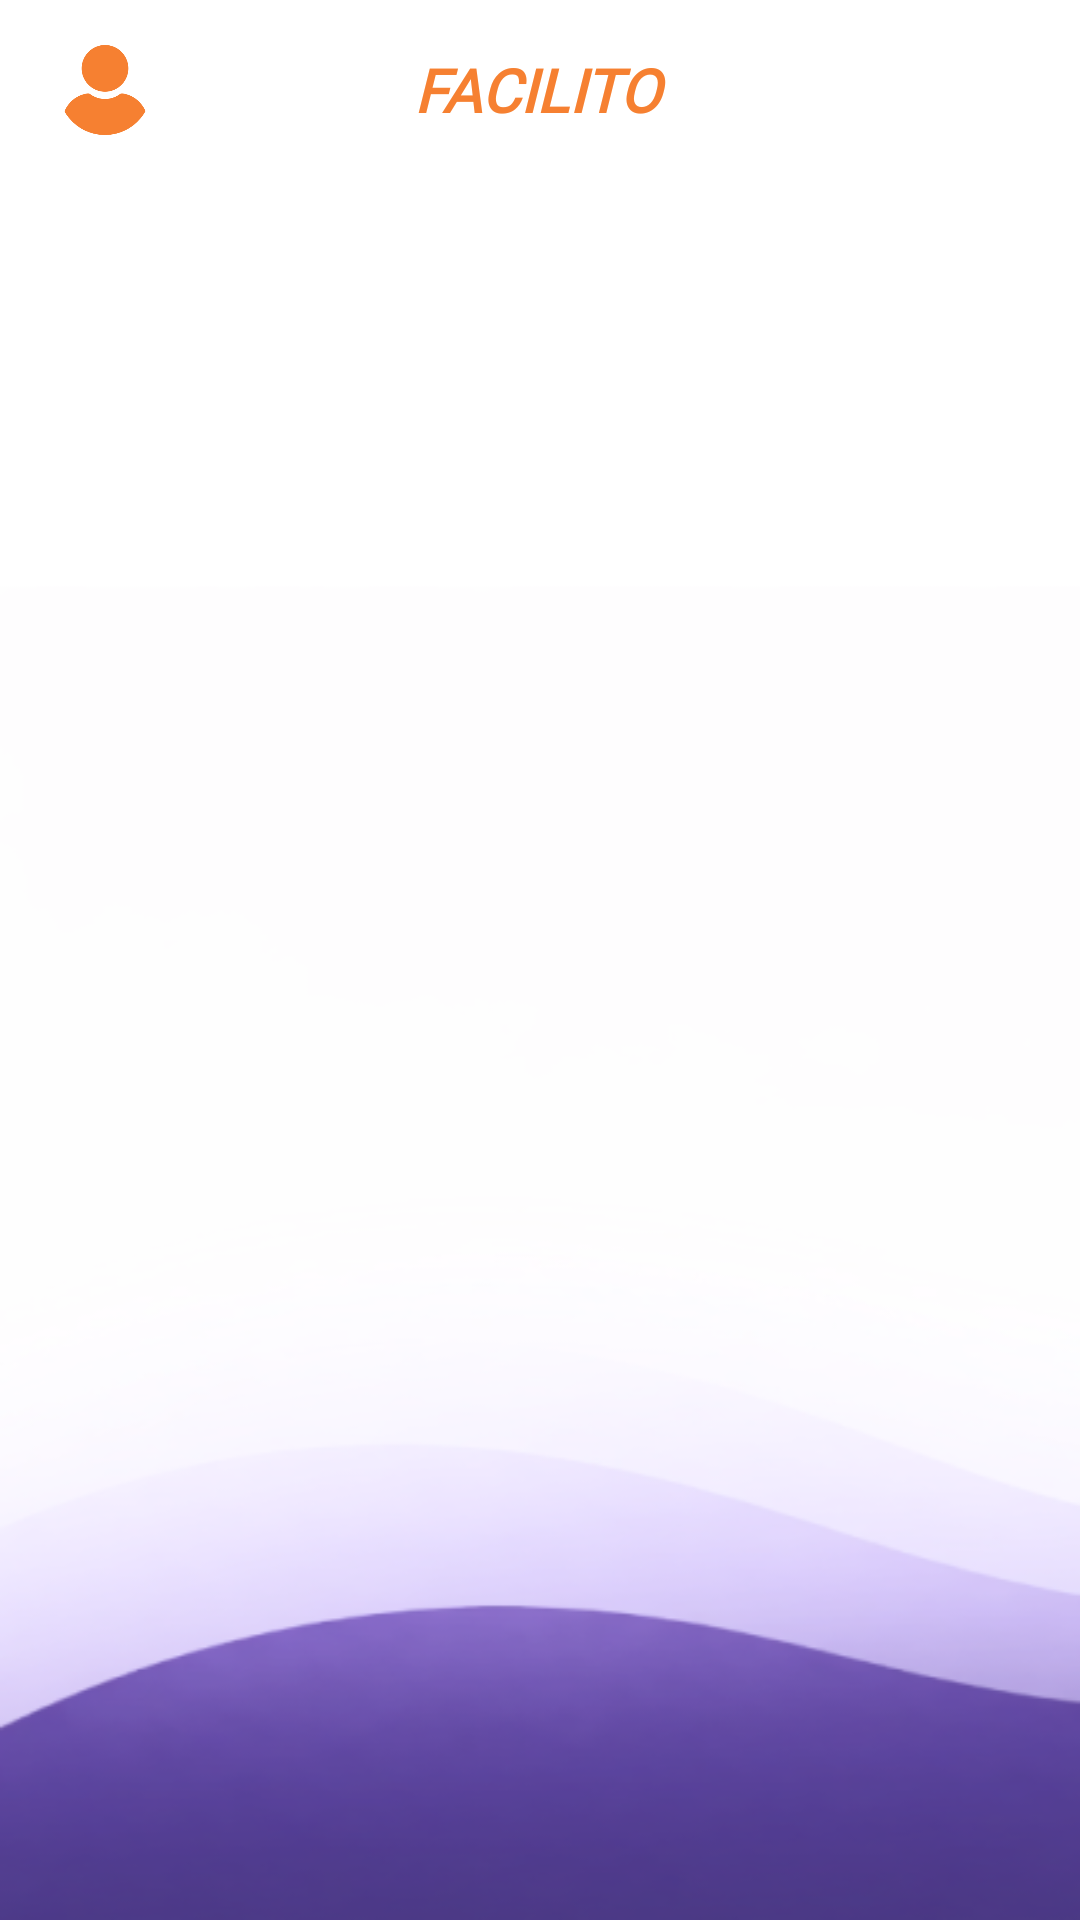

Point at icon controls on the screen. Image size 1080px×1920px, points as point (x, y).
Usuario: point (104, 90)
